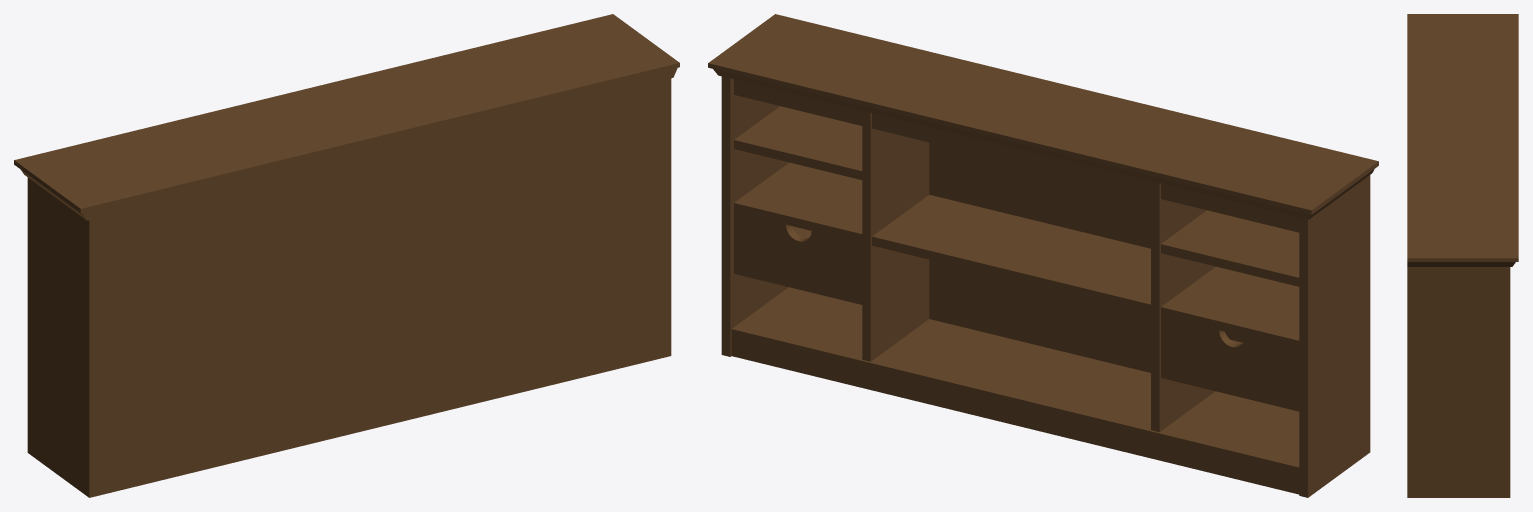
The picture shows the model from 3 angles, left to right: view 1: azimuth 30°, elevation 25°; view 2: azimuth 150°, elevation 25°; view 3: azimuth 270°, elevation 25°; orthographic projection. The views are drawn at different scales.
Parts seen in each view (by area): view 1: mesh3_mesh3-geometry, mesh9_mesh9-geometry, mesh15_mesh15-geometry, mesh7_mesh7-geometry; view 2: mesh9_mesh9-geometry, mesh5_mesh5-geometry, mesh15_mesh15-geometry, mesh3_mesh3-geometry, mesh17_mesh17-geometry, mesh25_mesh25-geometry, mesh19_mesh19-geometry, mesh21_mesh21-geometry, mesh1_mesh1-geometry, mesh13_mesh13-geometry, mesh11_mesh11-geometry, mesh7_mesh7-geometry (+1 smaller); view 3: mesh9_mesh9-geometry, mesh15_mesh15-geometry, mesh7_mesh7-geometry.
Boxes of the visible parts, left/top/right/bottom form: mesh3_mesh3-geometry: left=98, top=80, right=662, bottom=495; mesh9_mesh9-geometry: left=14, top=14, right=679, bottom=213; mesh15_mesh15-geometry: left=27, top=78, right=671, bottom=497; mesh7_mesh7-geometry: left=21, top=68, right=677, bottom=220; mesh9_mesh9-geometry: left=708, top=14, right=1378, bottom=214; mesh5_mesh5-geometry: left=731, top=287, right=1299, bottom=494; mesh15_mesh15-geometry: left=721, top=76, right=1370, bottom=497; mesh3_mesh3-geometry: left=929, top=142, right=1244, bottom=372; mesh17_mesh17-geometry: left=862, top=111, right=1215, bottom=432; mesh25_mesh25-geometry: left=872, top=194, right=1150, bottom=313; mesh19_mesh19-geometry: left=734, top=106, right=862, bottom=304; mesh21_mesh21-geometry: left=1161, top=210, right=1299, bottom=349; mesh1_mesh1-geometry: left=734, top=79, right=1299, bottom=232; mesh13_mesh13-geometry: left=1161, top=316, right=1299, bottom=402; mesh11_mesh11-geometry: left=734, top=212, right=862, bottom=295; mesh7_mesh7-geometry: left=713, top=69, right=1374, bottom=219; mesh9_mesh9-geometry: left=1407, top=14, right=1518, bottom=261; mesh15_mesh15-geometry: left=1407, top=267, right=1510, bottom=497; mesh7_mesh7-geometry: left=1407, top=262, right=1515, bottom=266.
Size of the model in its own units: 0.8934 by 0.4148 by 0.1723.
